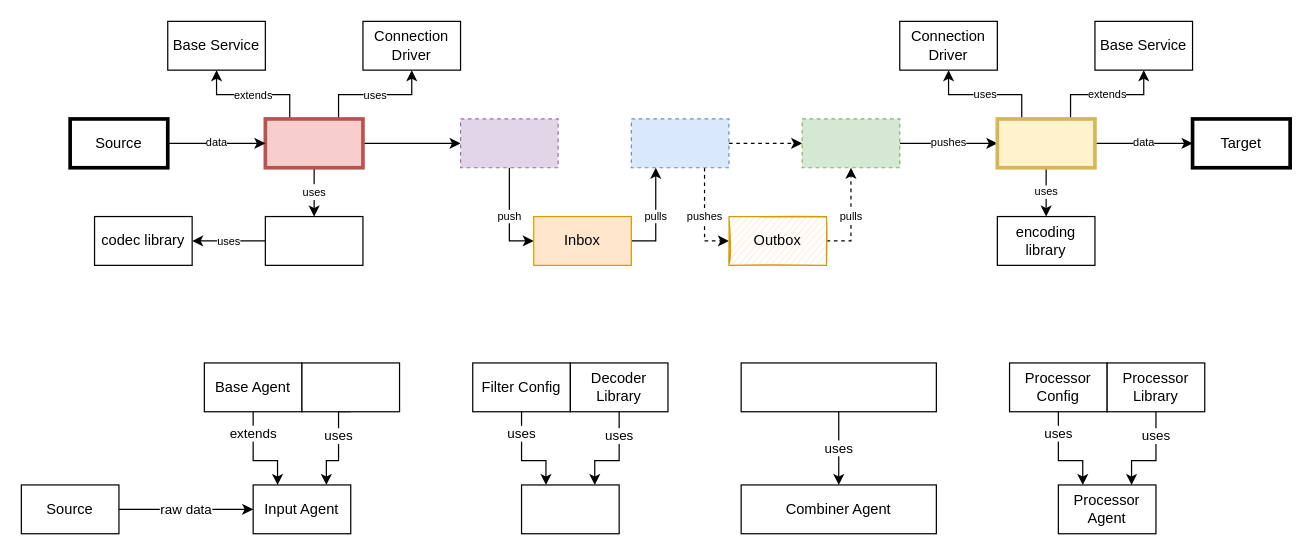
Image size: 1313x555. Some labels were removed from this diagram. Here are the shapes that lost their labels. From the top down, the centre of each, then its label:
At pixel 313 143: "Input Service".
At pixel 508 143: "Combiner".
At pixel 679 143: "Processor".
At pixel 850 143: "Router".
At pixel 1045 143: "Output Service".
At pixel 313 240: "Filter".
At pixel 350 387: "Driver".
At pixel 838 387: "Combiner Config".
At pixel 569 509: "Filter Agent".
